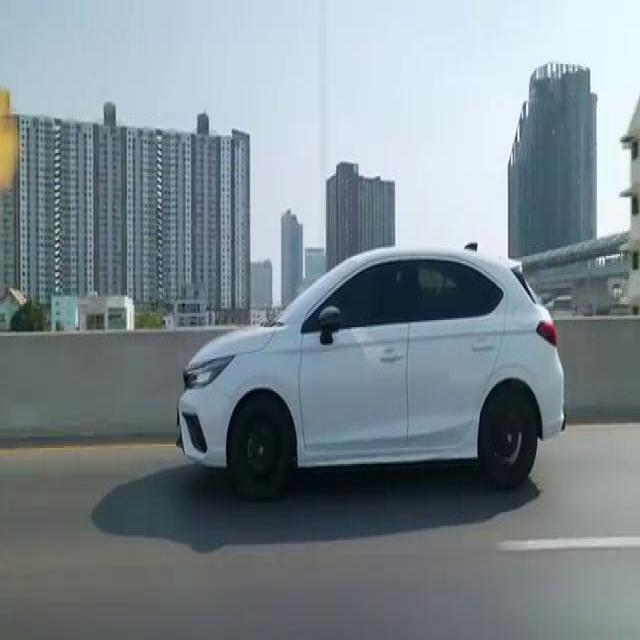Hatchback: (177, 245, 565, 498)
